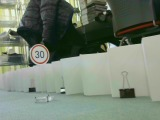speed_30: (29, 44, 50, 65)
